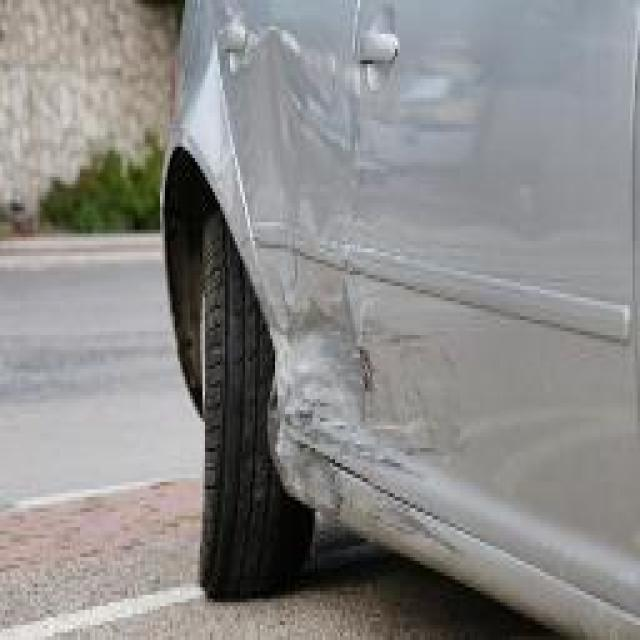Door: (254, 198, 405, 502)
